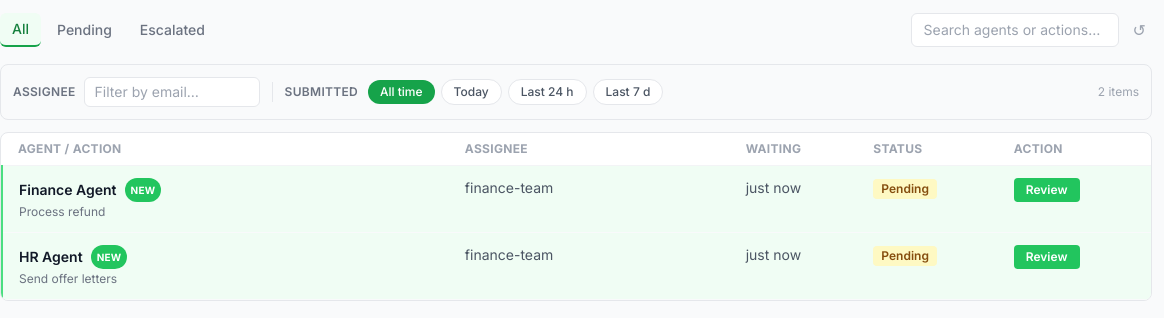
DashboardClient › filters by search query against action_description
Type "offer" into the field with placeholder "Search agents or actions…". click: [1015, 30]
box: [911,13,1119,47]
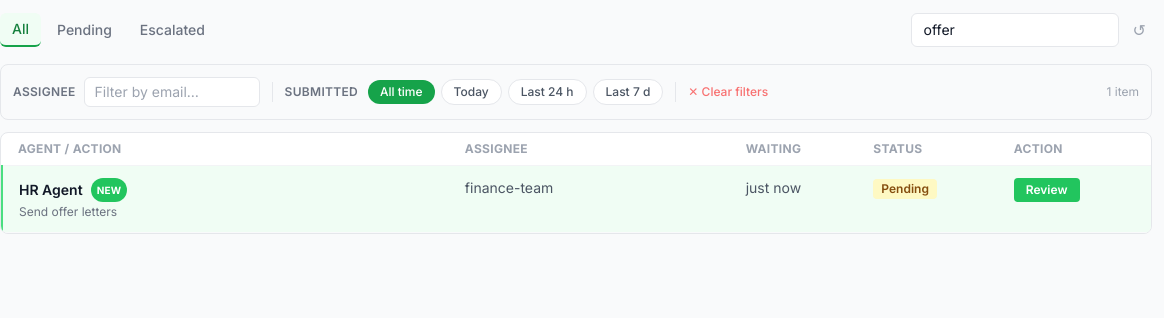
Expected: the text "HR Agent" is shown, [19,180,83,200]
Now the text "Finance Agent" is gone
